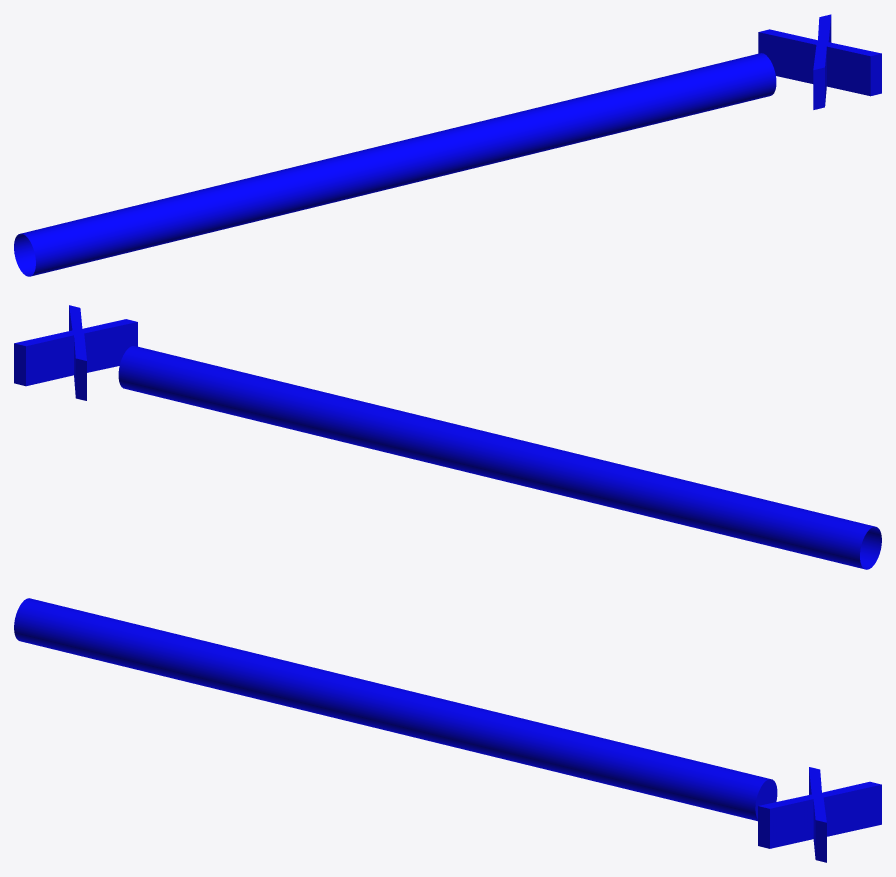
File: frame_1.obj
3 views of the same model, one above another, from view 1: azimuth 30°, elevation 25°; view 2: azimuth 150°, elevation 25°; view 3: azimuth 330°, elevation 25° (orthographic).
Size of the model in its own units: 0.2175 by 0.01 by 0.0239.
